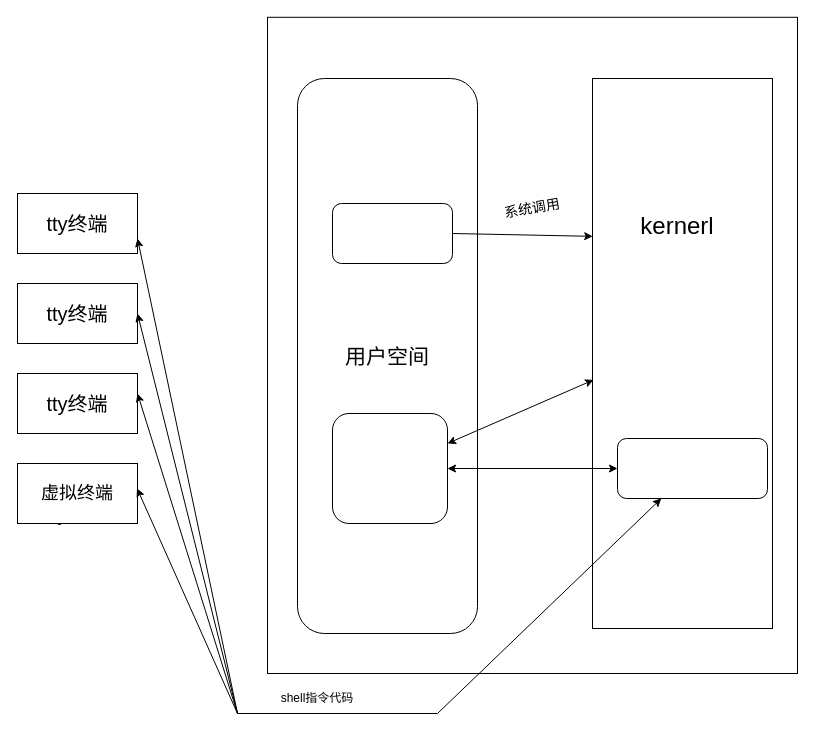
Some shapes in this 815 by 741 pixel diagram are drawn without their labels. The centre of each missing label's shape, as x and y in pixels:
shell: [390,468]
tty subsystem: [692,468]
其它程序: [392,233]
